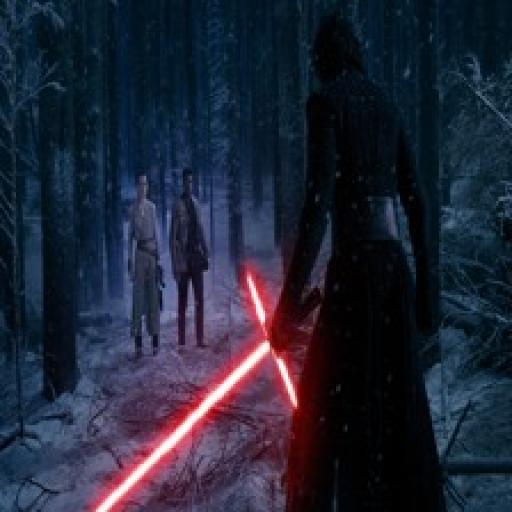human: (263, 11, 451, 512), (122, 169, 166, 361), (172, 169, 213, 348)
sith saber: (86, 264, 332, 512)
